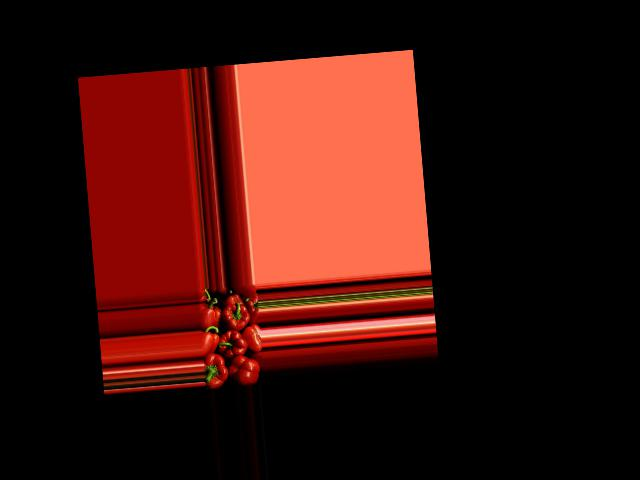bell_pepper: (243, 324, 261, 353)
